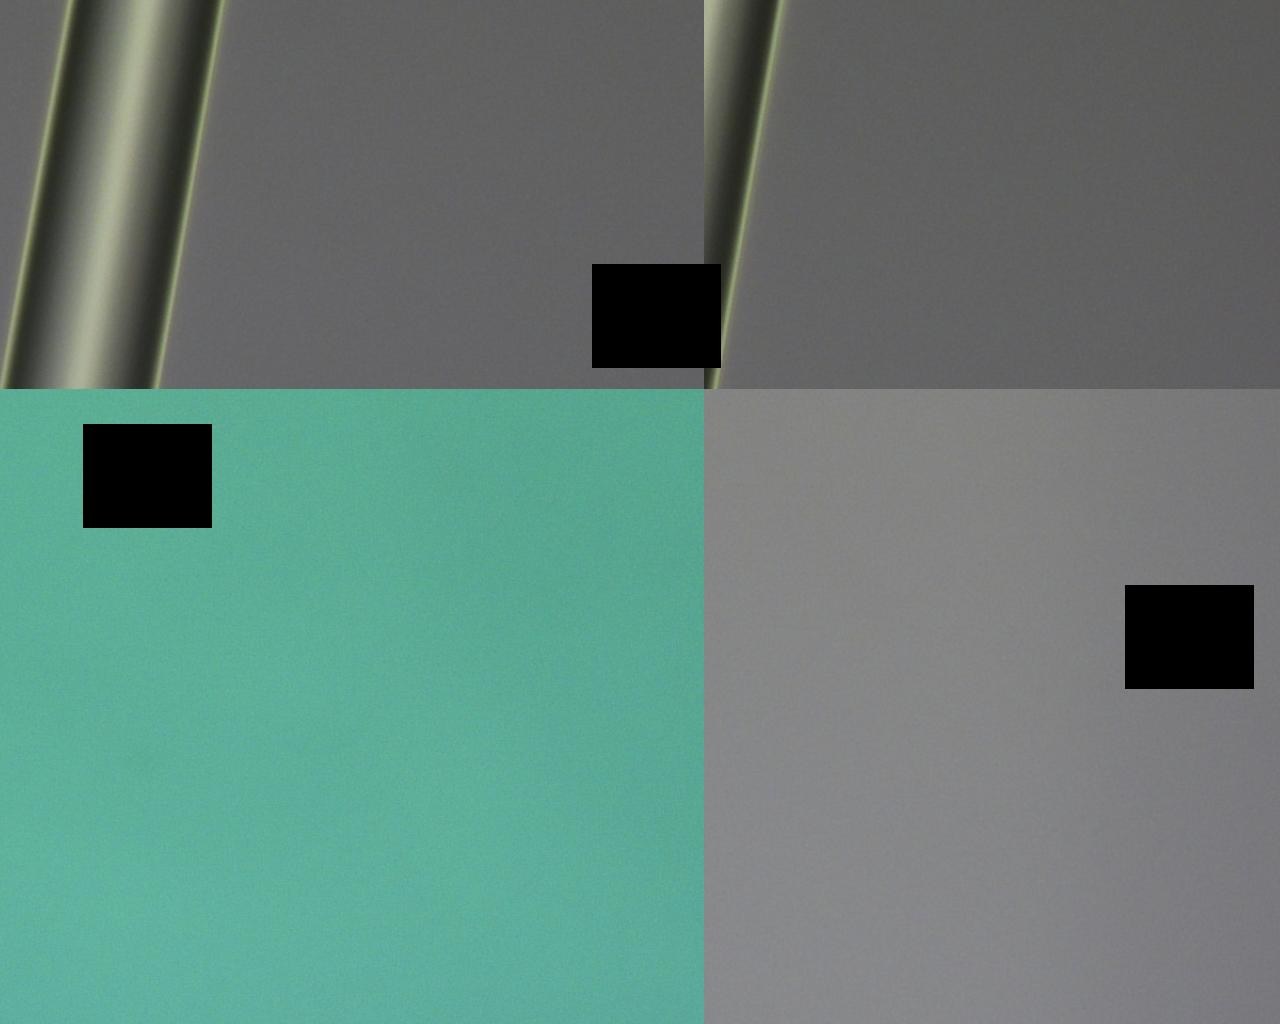fiber: (563, 68, 1280, 432), (0, 28, 563, 168), (0, 853, 563, 935), (563, 854, 1280, 874)
